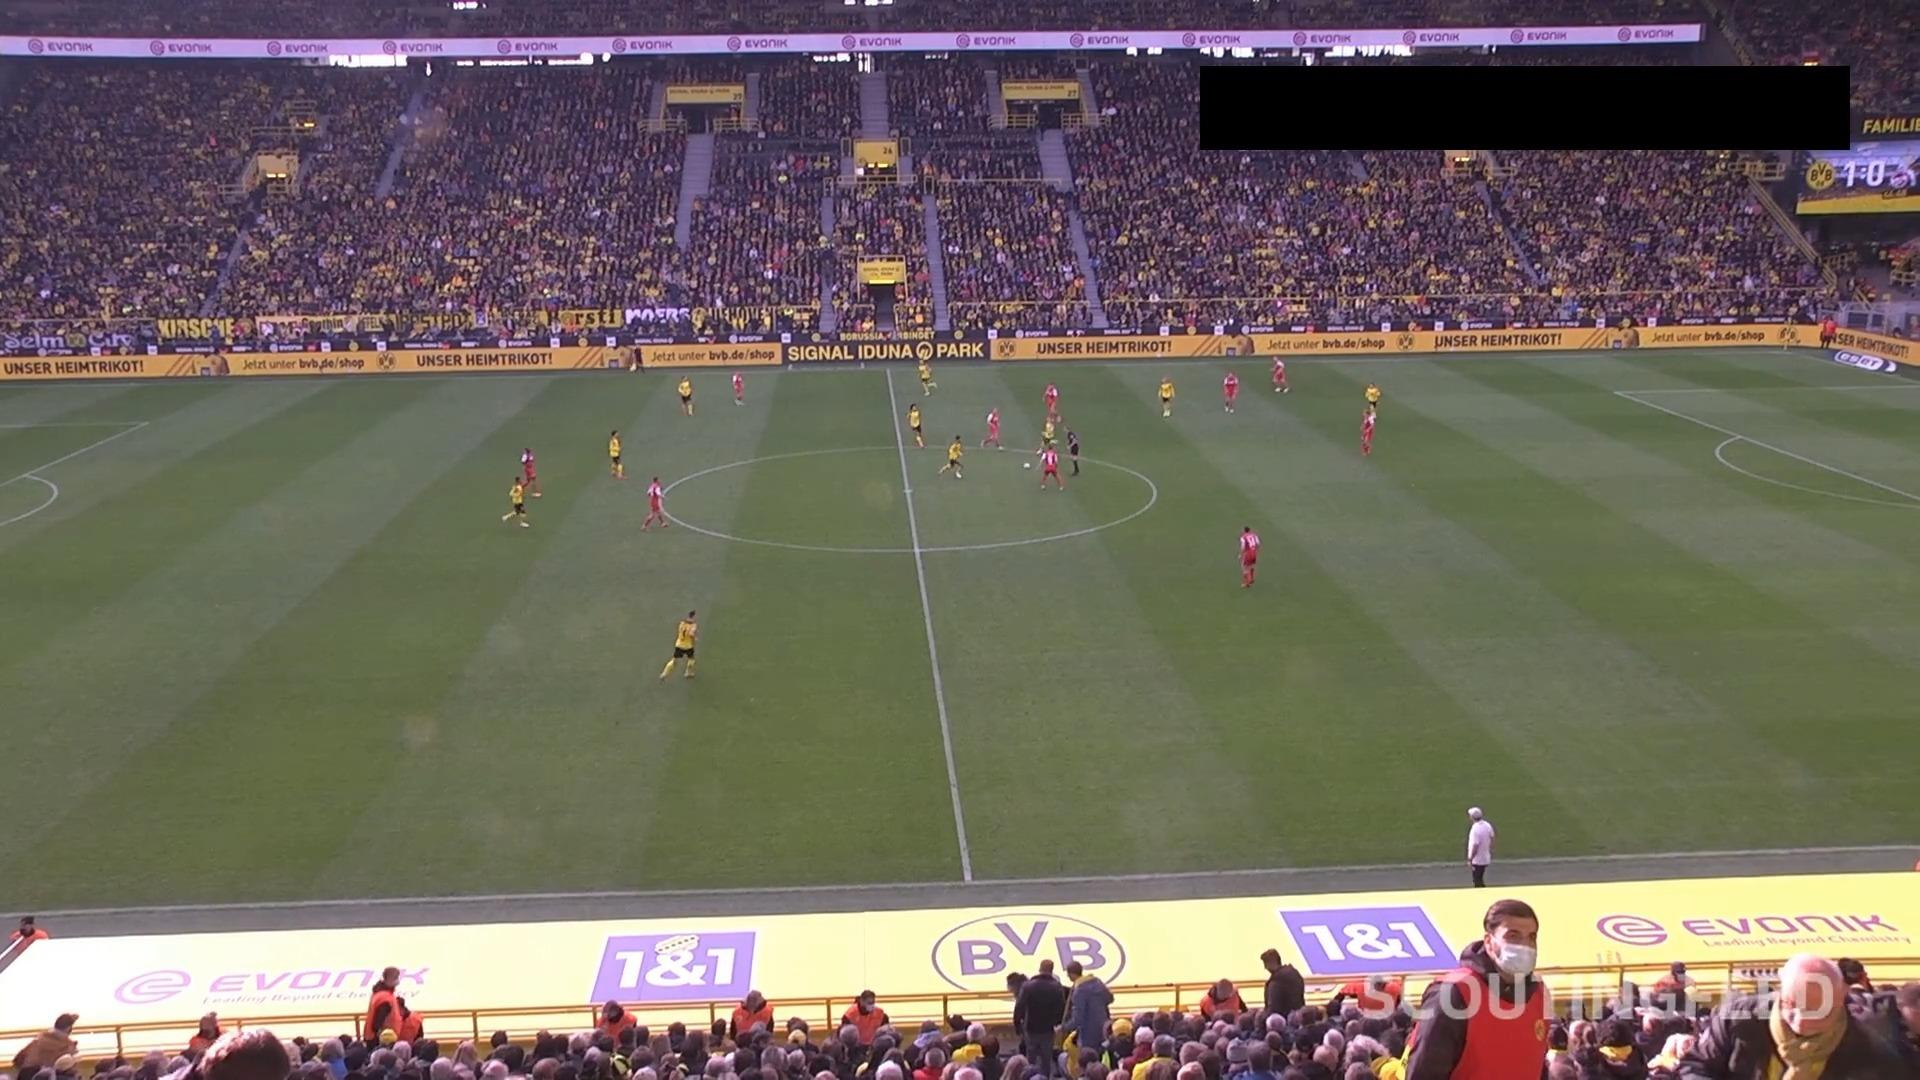ball: (1023, 462, 1031, 471)
